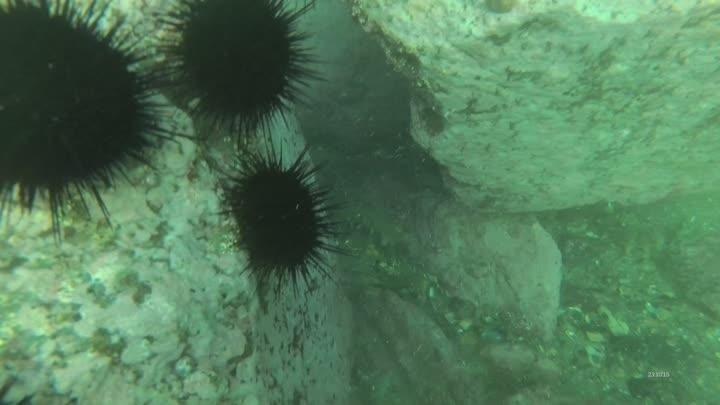echinus: (0, 1, 174, 227), (156, 2, 323, 143), (216, 144, 343, 291)
holothurian: (348, 199, 417, 262)
